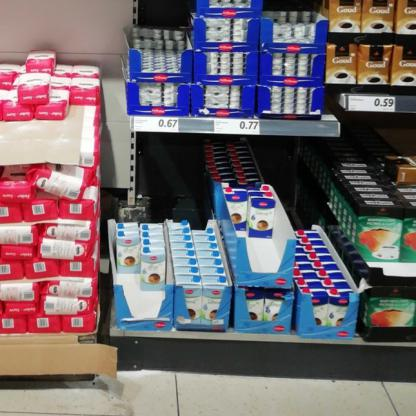prtg: (350, 96, 397, 113), (135, 117, 179, 133), (215, 120, 260, 135)
